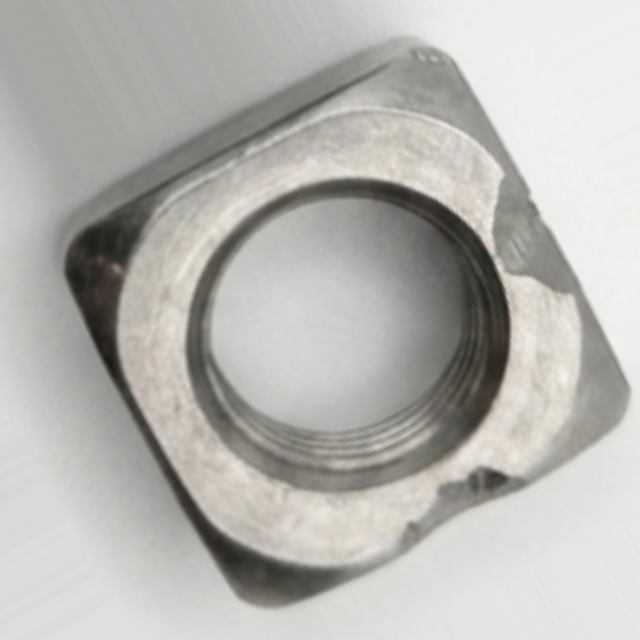defect: (480, 154, 588, 310), (397, 458, 531, 551)
